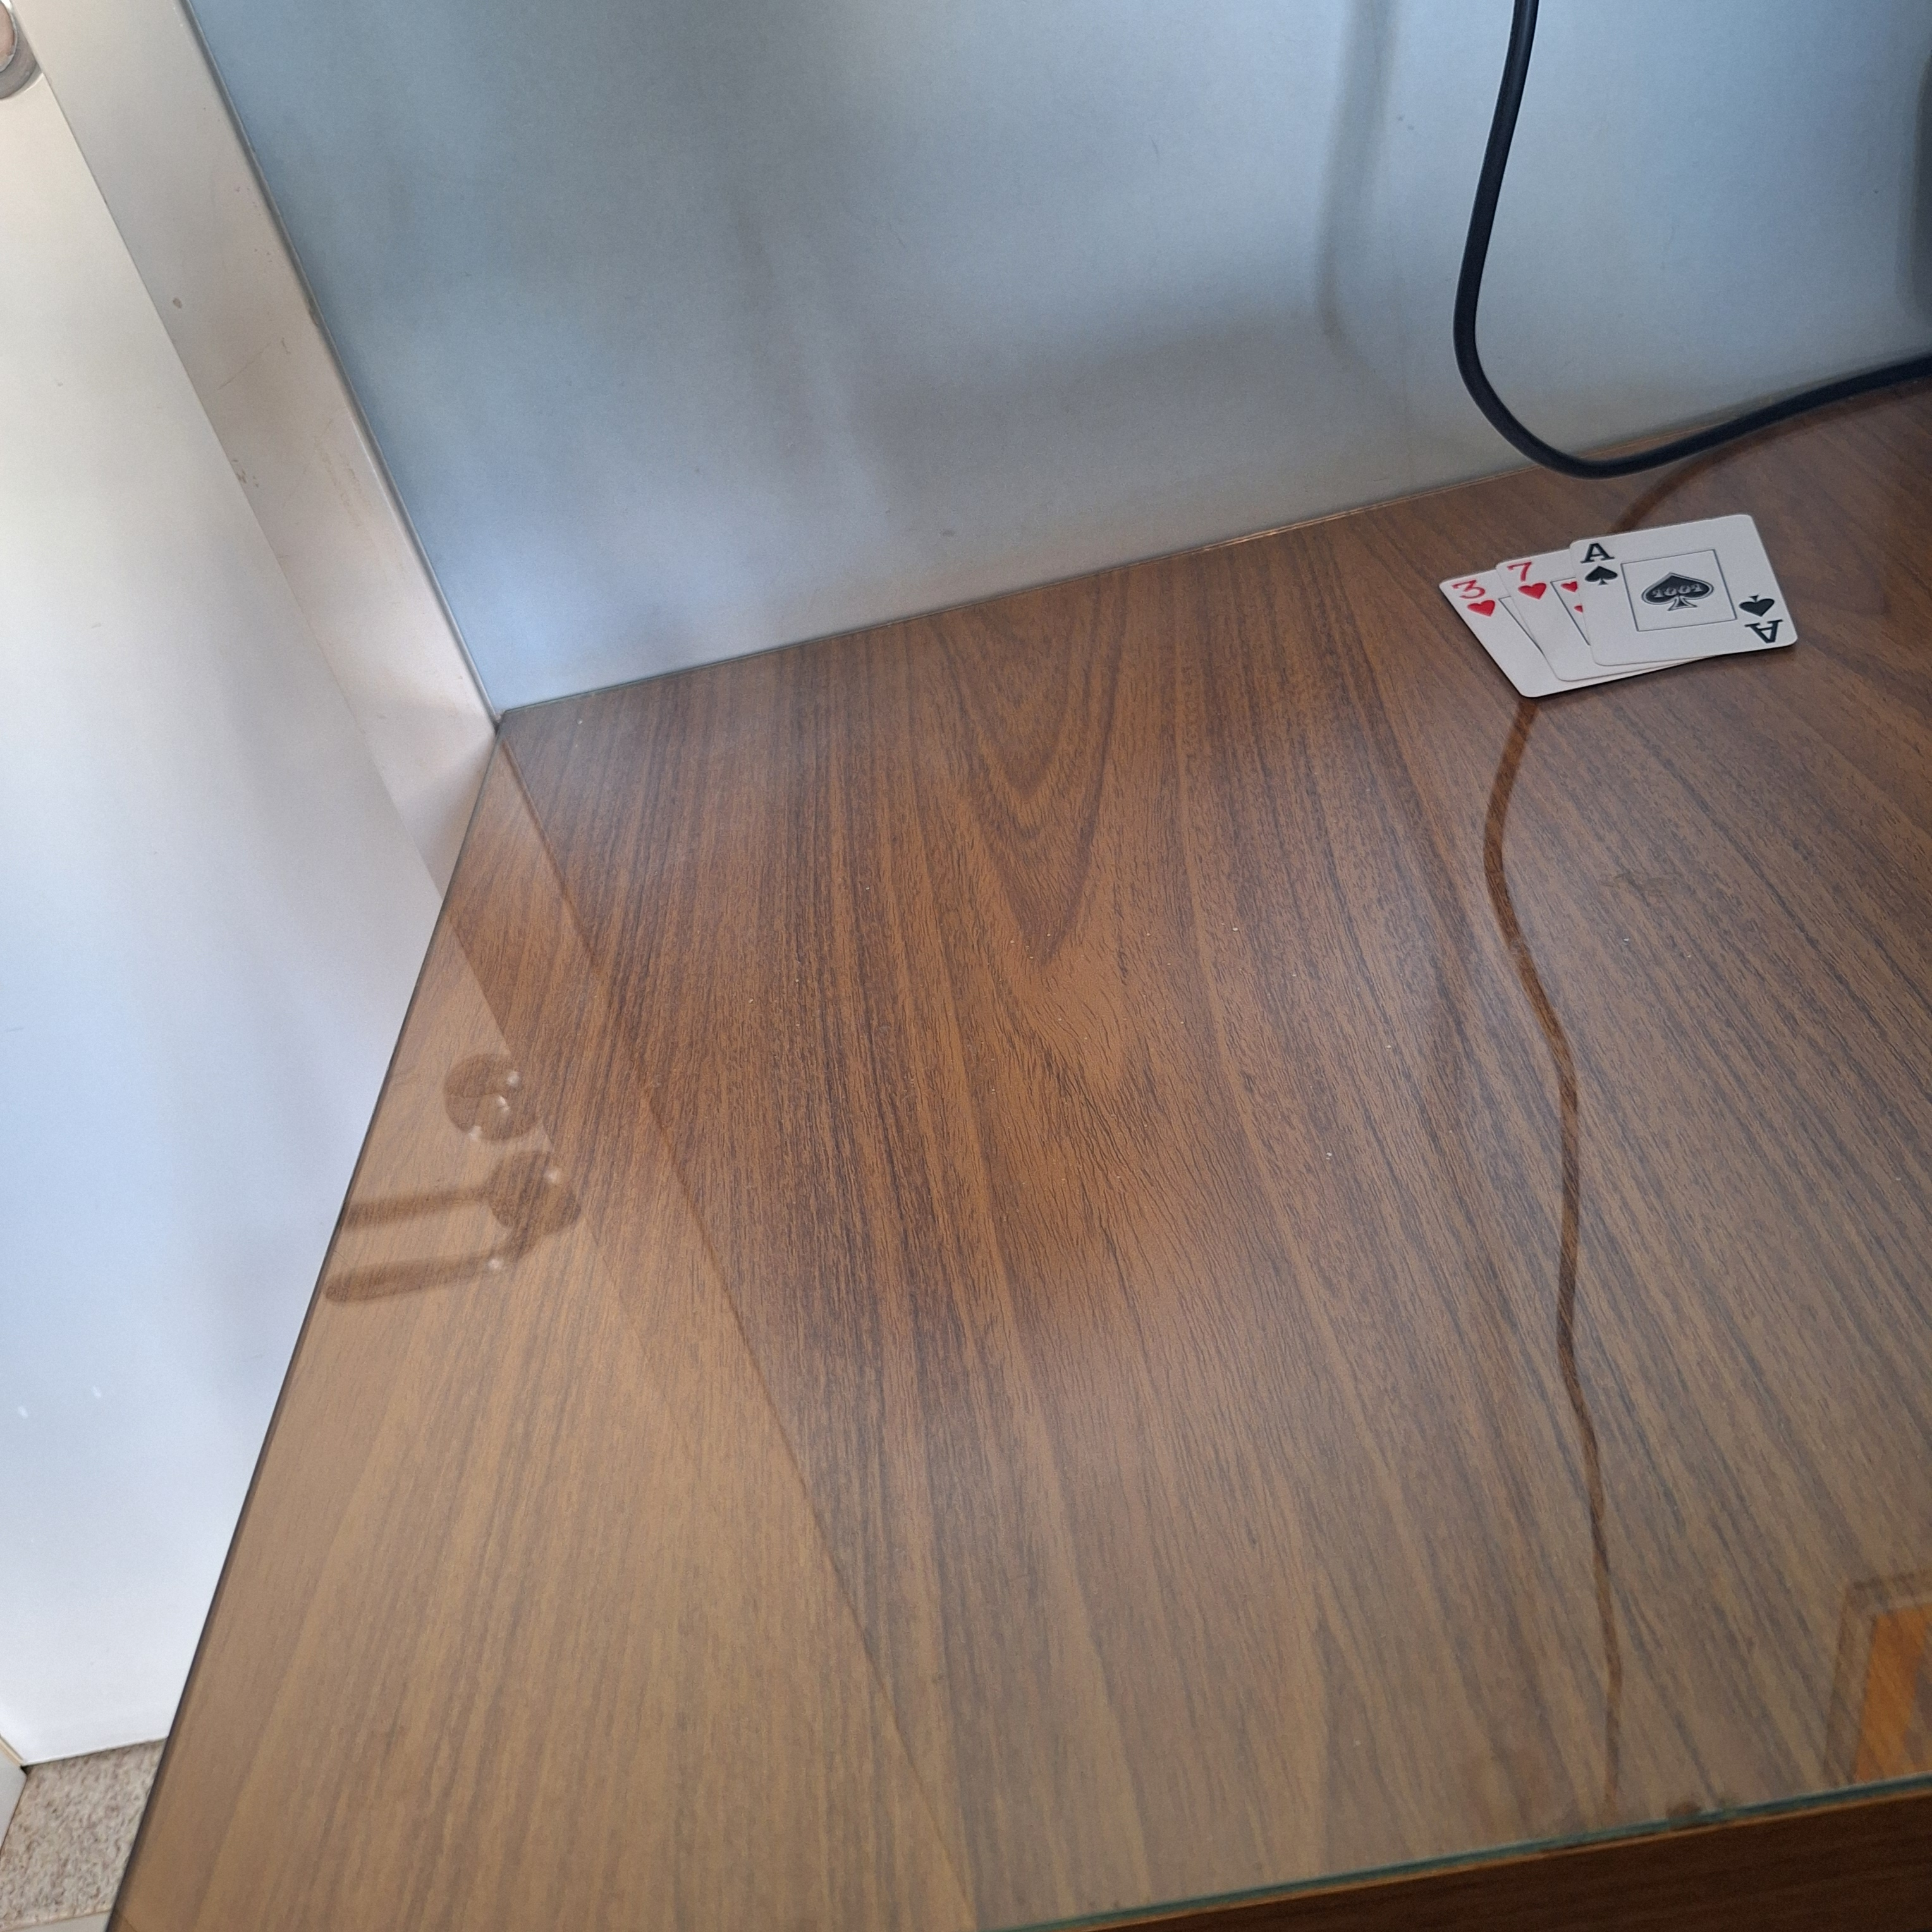3C: (1442, 571, 1504, 625)
7C: (1500, 556, 1548, 609)
AE: (1730, 586, 1790, 651), (1575, 533, 1624, 598)
